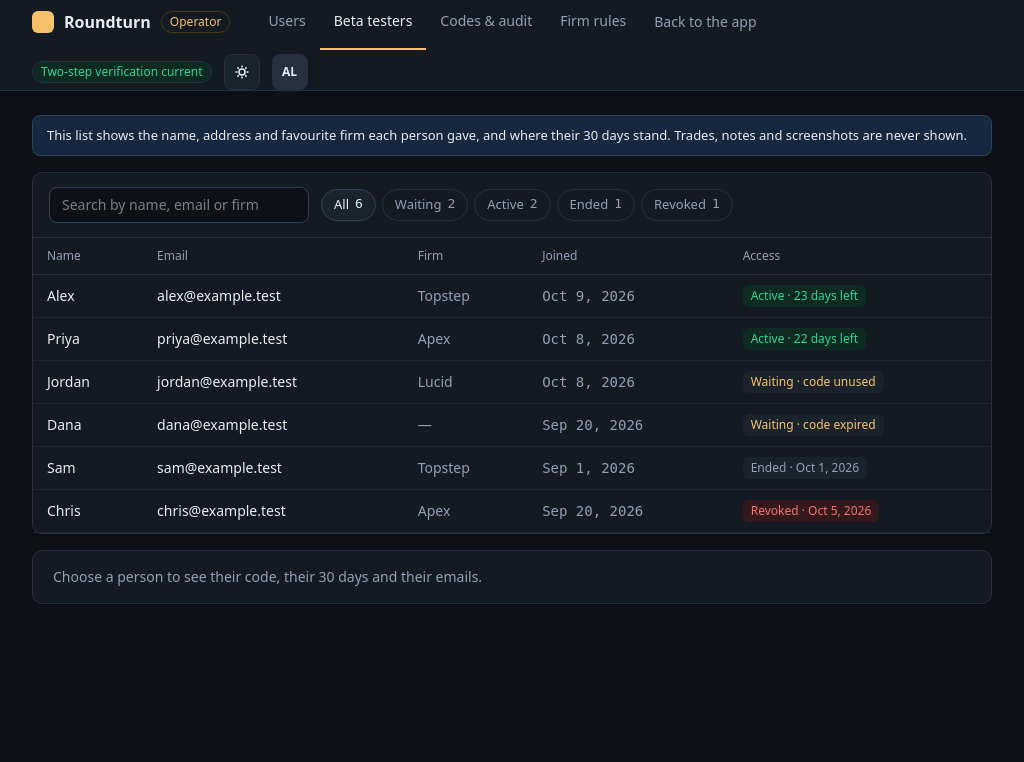
Test: one person › shows their facts for someone whose 30 days run
Click the button "Alex": point(61, 296) x1=47 y1=286 x2=75 y2=306
(page scrolled)
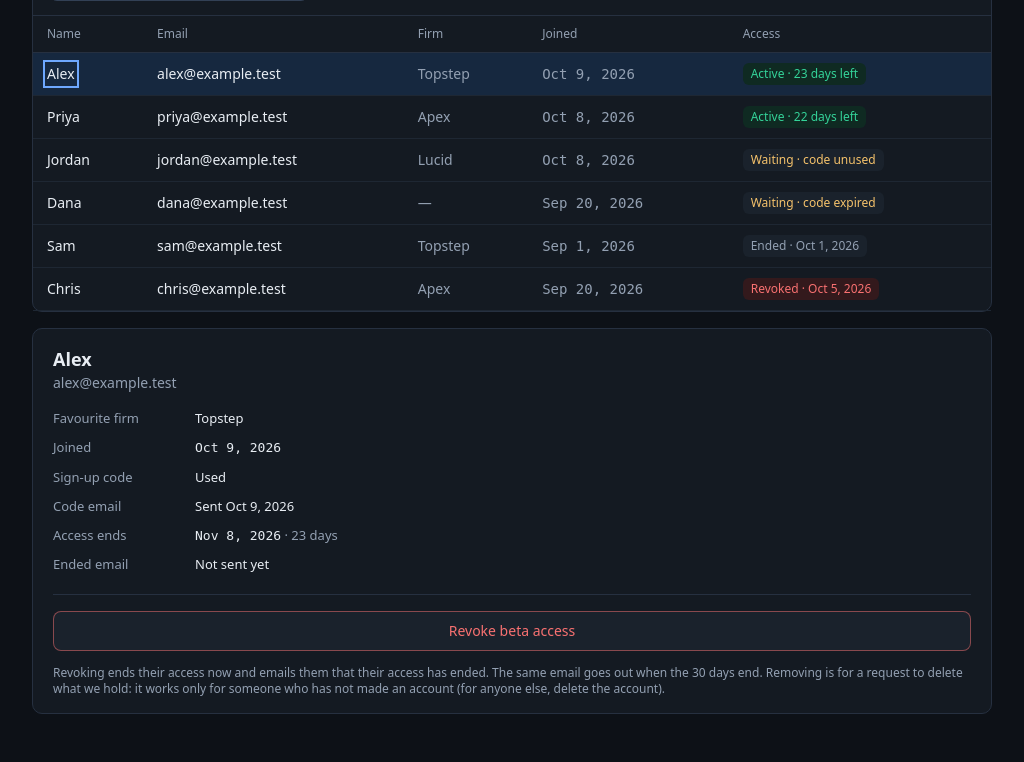
Now the heading "Alex" is shown, box x1=53 y1=347 x2=92 y2=371
Now the element named "Selected person" shows "alex@example.test", box x1=53 y1=373 x2=177 y2=392
